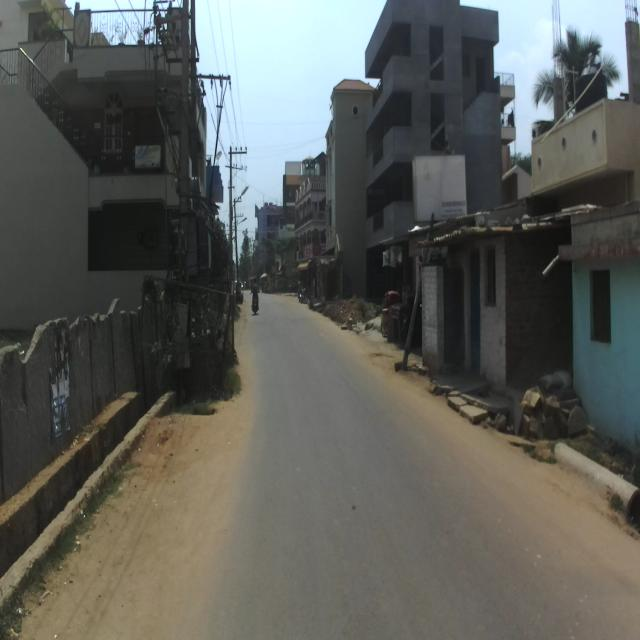electric pole ahead at: (188, 60, 232, 408)
